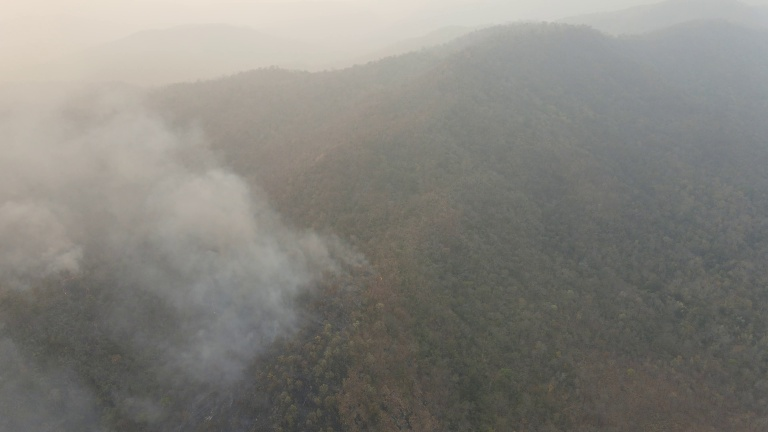smoke: (1, 12, 387, 431)
